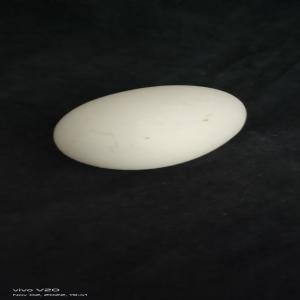Egg: (54, 83, 246, 171)
